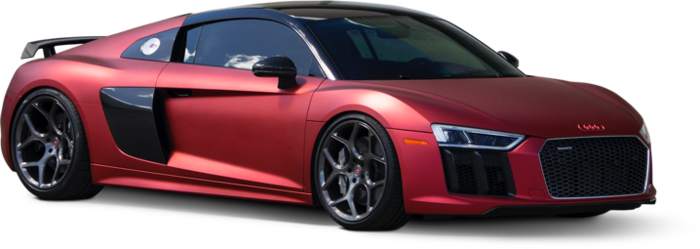car: (6, 1, 654, 236)
